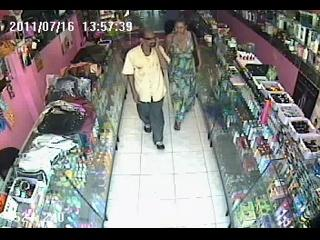Normal: (121, 28, 170, 150), (164, 19, 202, 131)
